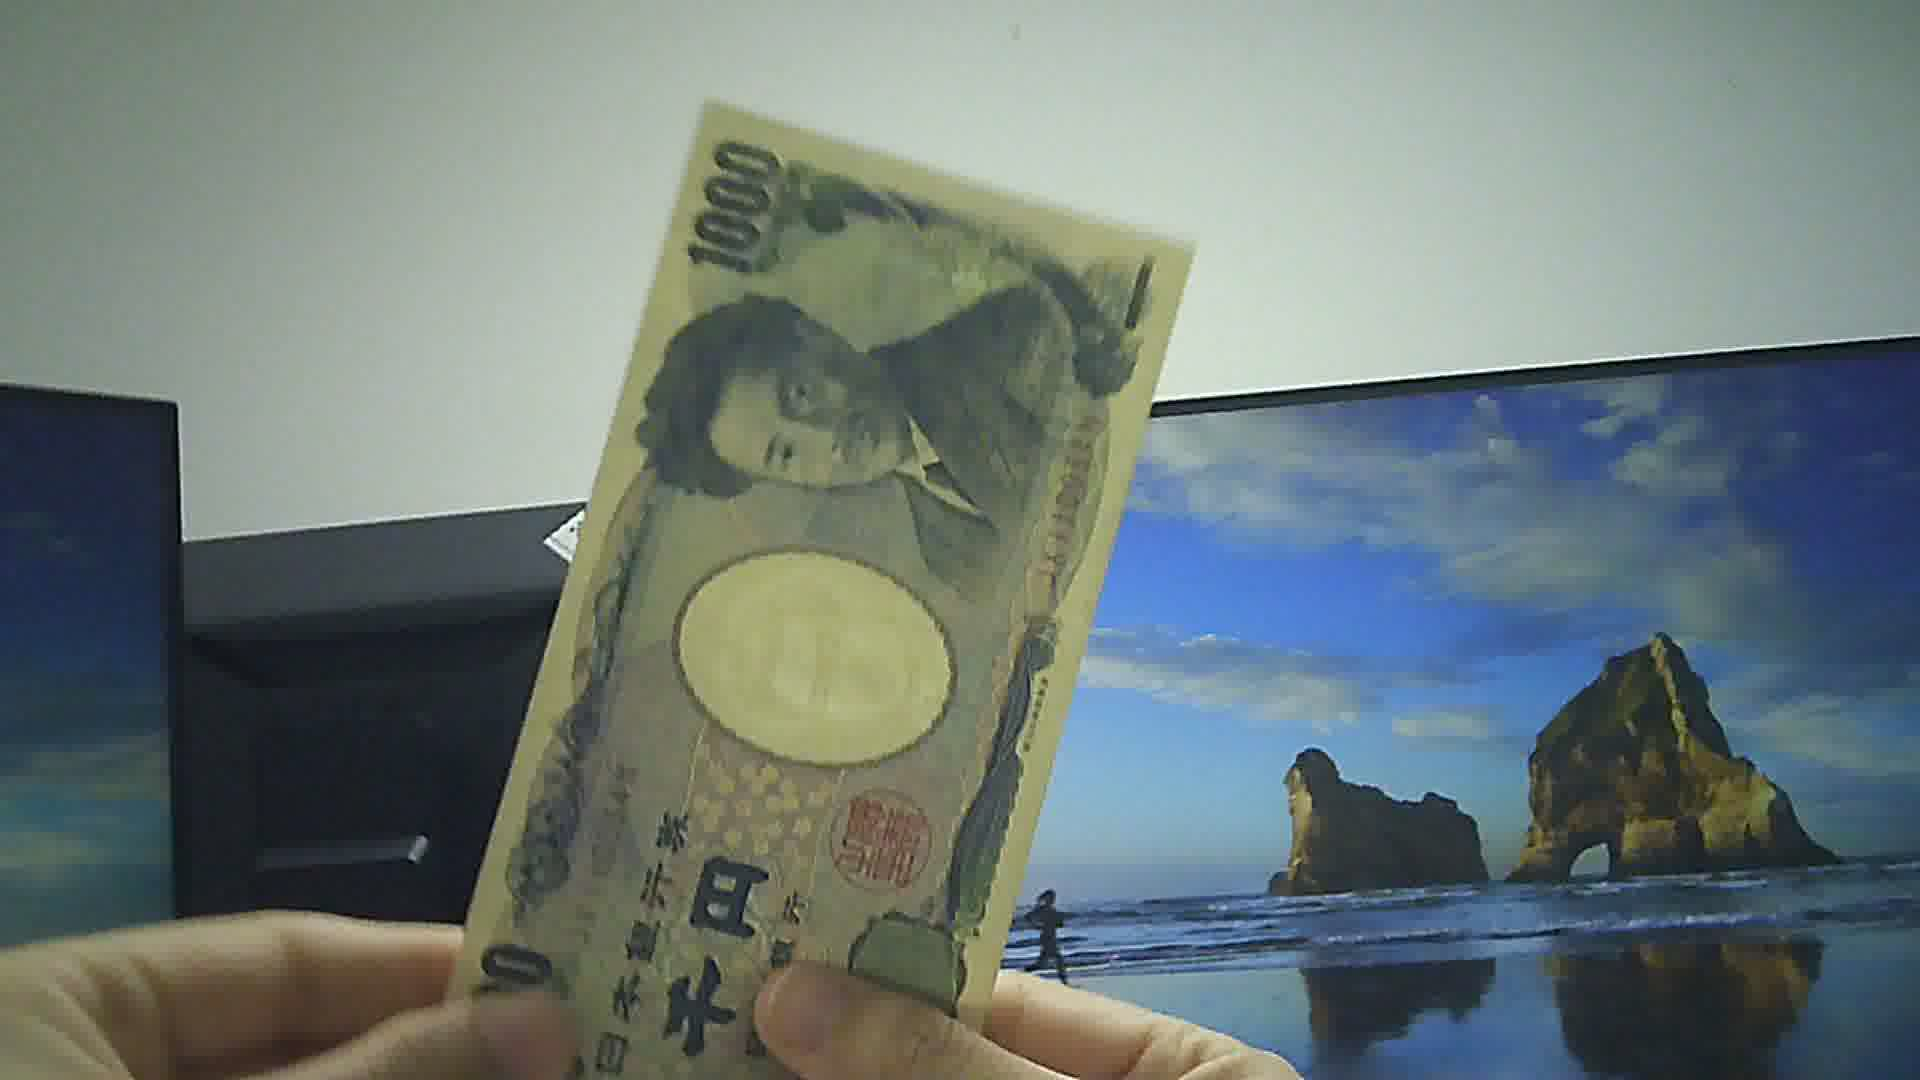1,000 Yen: (454, 76, 1200, 1079)
